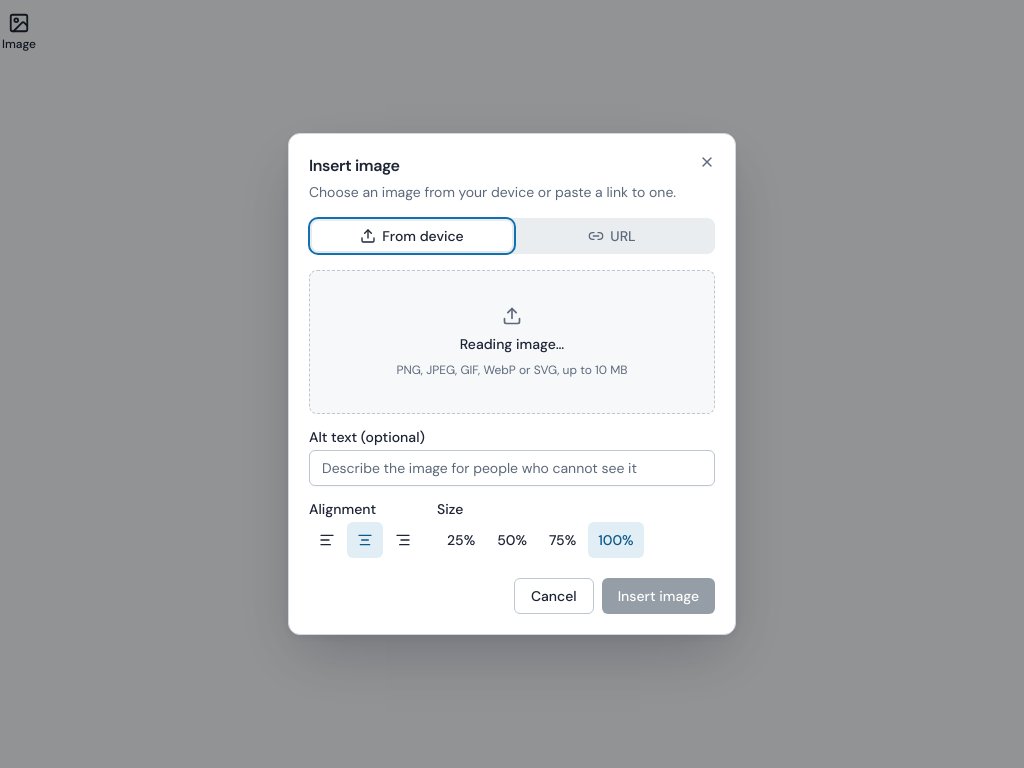
Test: ImageToolbar uploads › stays silent when a cancelled read fails or the toolbar unmounts
Earlier steps of the test are not shown.
Press Escape
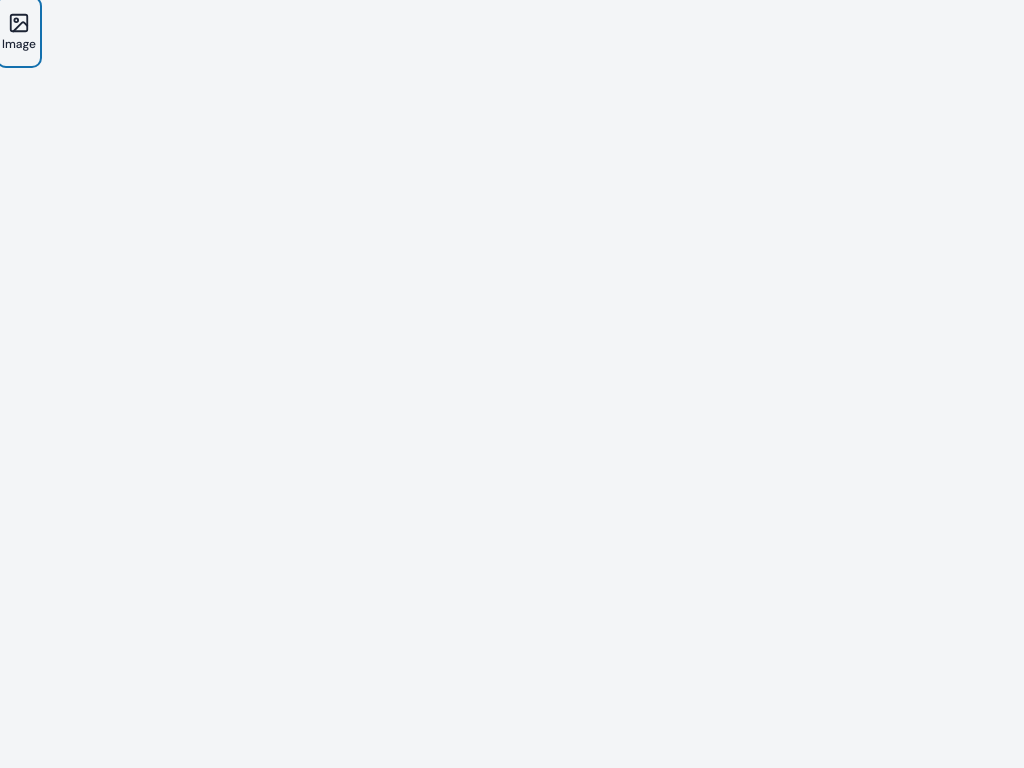
Result: the dialog is gone
Click the button with aria-label "Insert image".
click(19, 32)  # box [0, 0, 38, 64]
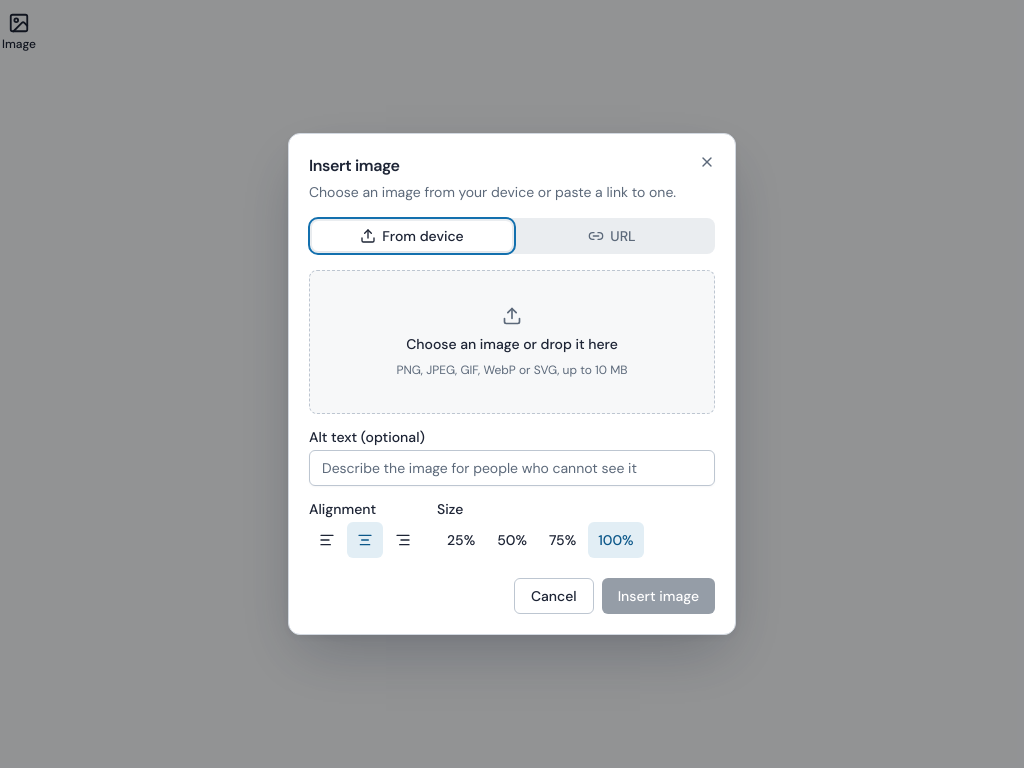
Result: the dialog is shown at [288, 133, 736, 635]
